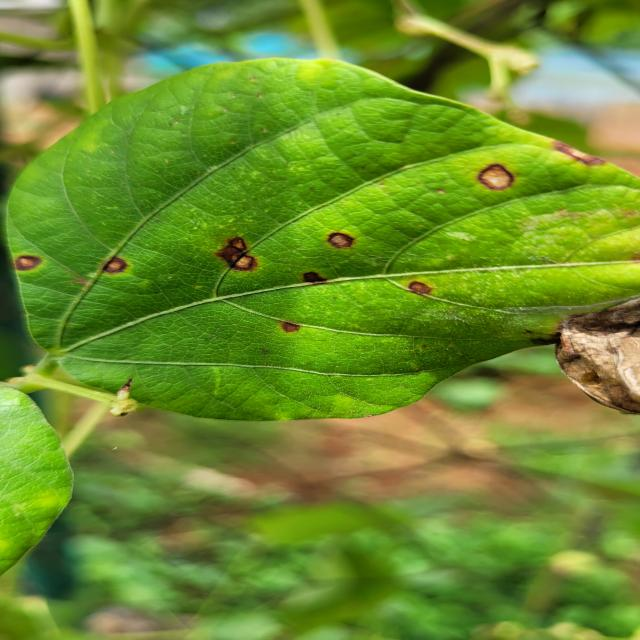Dolicos bean_cercospora leaf spot: (0, 55, 640, 418)
